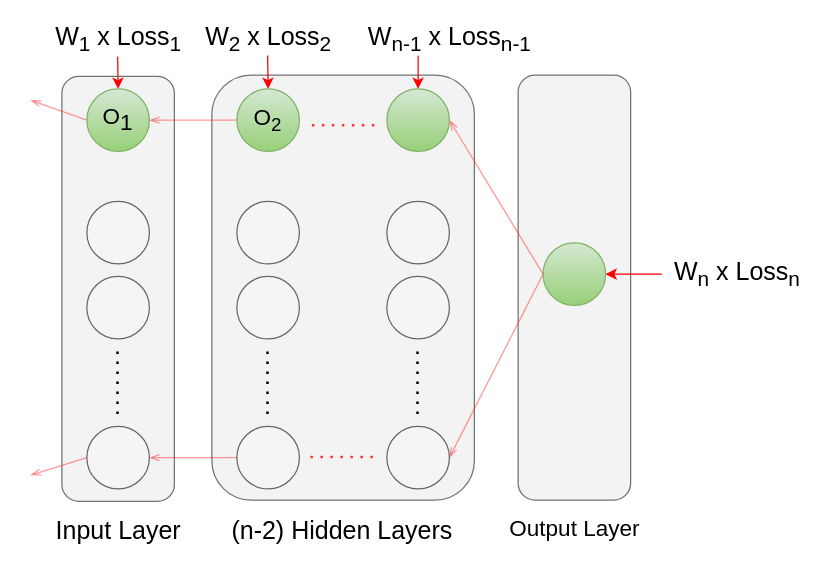
The diagram is 834 pixels wide and 568 high, and some of its shapes have lost their labels. Each missing label, with the centre of its shape:
"O n" belongs at [574,273].
"O n-1" belongs at [417,119].
